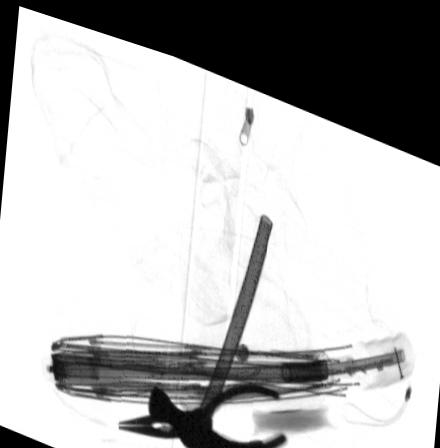Hammer: (145, 196, 287, 448)
Pliers: (117, 364, 289, 444)
